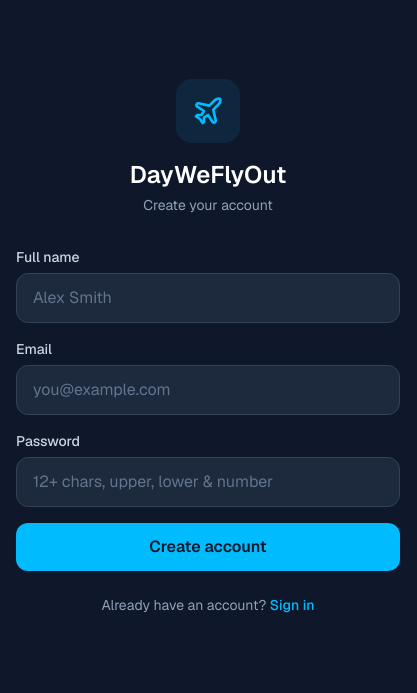
it: SignupPage › shows validation error for short password
This screenshot has width=417, height=693.
In the field labelled "Full name": [208, 298] box [16,273,400,323], type "Test User"
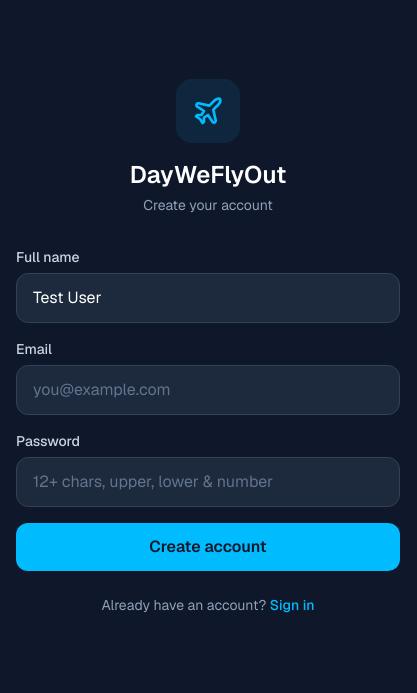
In the field labelled "Email": [208, 390] box [16,365,400,415], type "test@example.com"
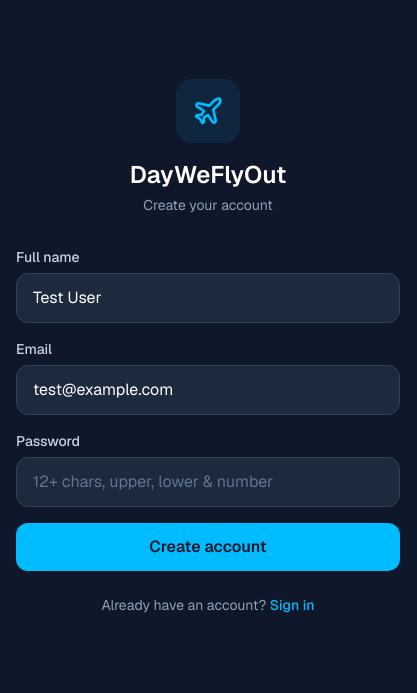
In the password field labelled "Password": [208, 482] box [16,457,400,507], type "Short1"
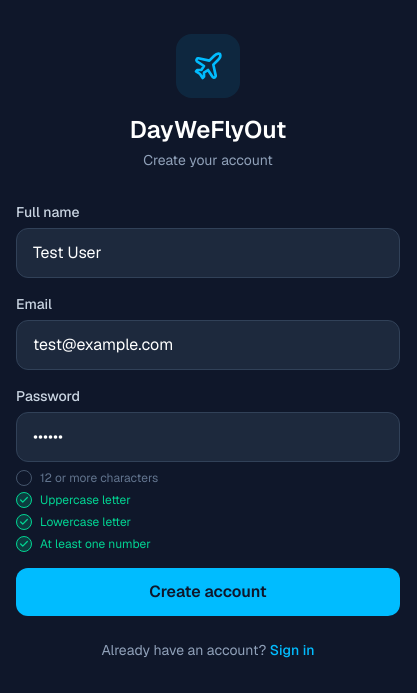
Submit the form named "create account", box [16,202,400,616]
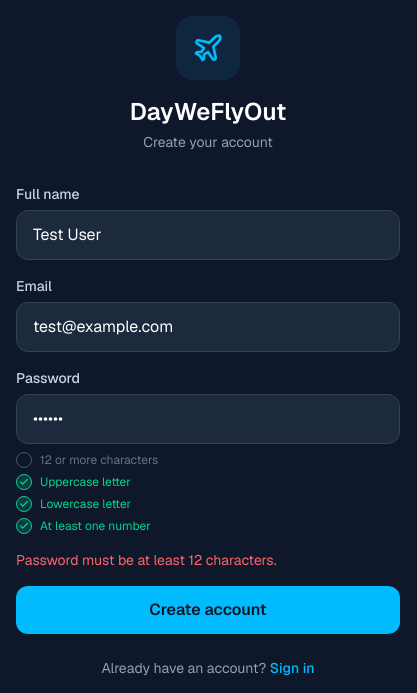
expect the text "Password must be at least 12 characters." is shown: met, box [16,551,276,569]
